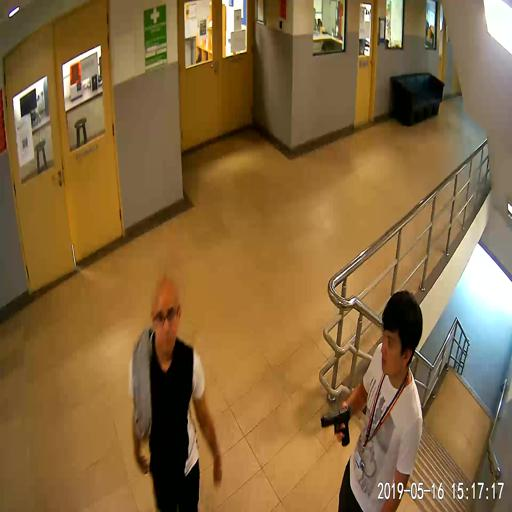pistol: (320, 404, 350, 446)
